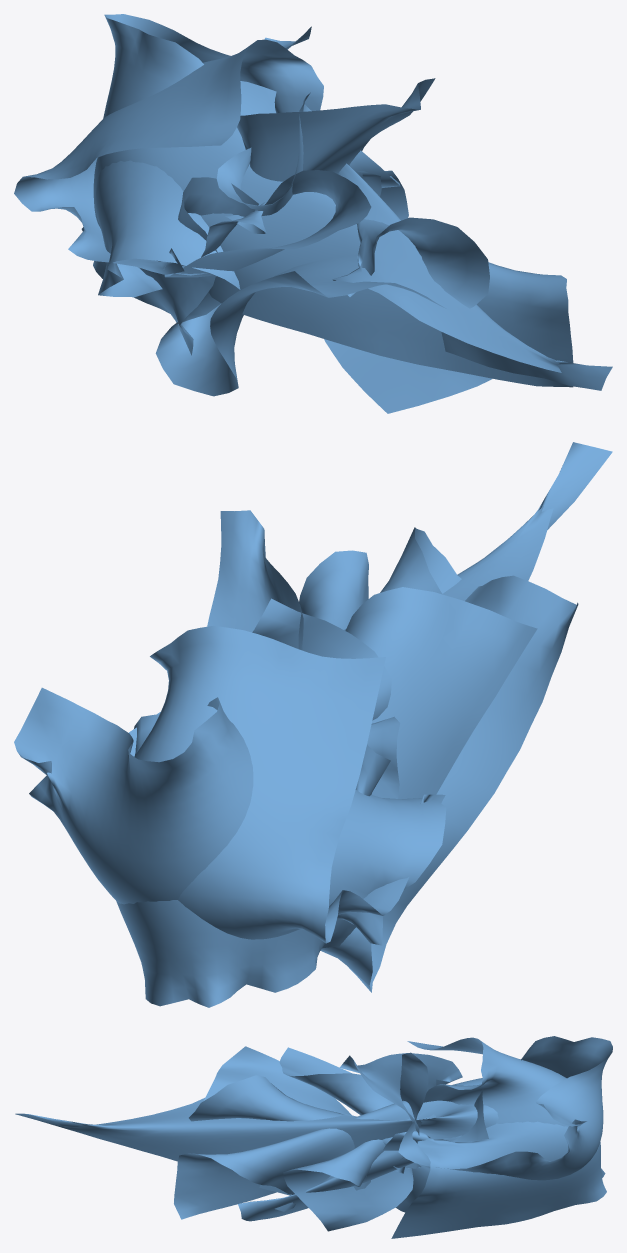
File: trace-transformed.glb
3 renders of one model, top to bottom at view 1: azimuth 30°, elevation 25°; view 2: azimuth 150°, elevation 25°; view 3: azimuth 270°, elevation 25°, orthographic. The views are drawn at different scales.
Visible parts, largest first — view 1: Object_7; view 2: Object_7; view 3: Object_7.
Boxes of the visible parts, x1,y1,x2,y2 form: Object_7: (14,14,612,413); Object_7: (14,442,612,1007); Object_7: (15,1036,612,1238).
Size of the model in its own units: 158 by 169 by 425.
